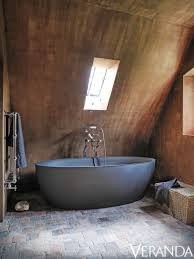bathub: (31, 153, 167, 207)
